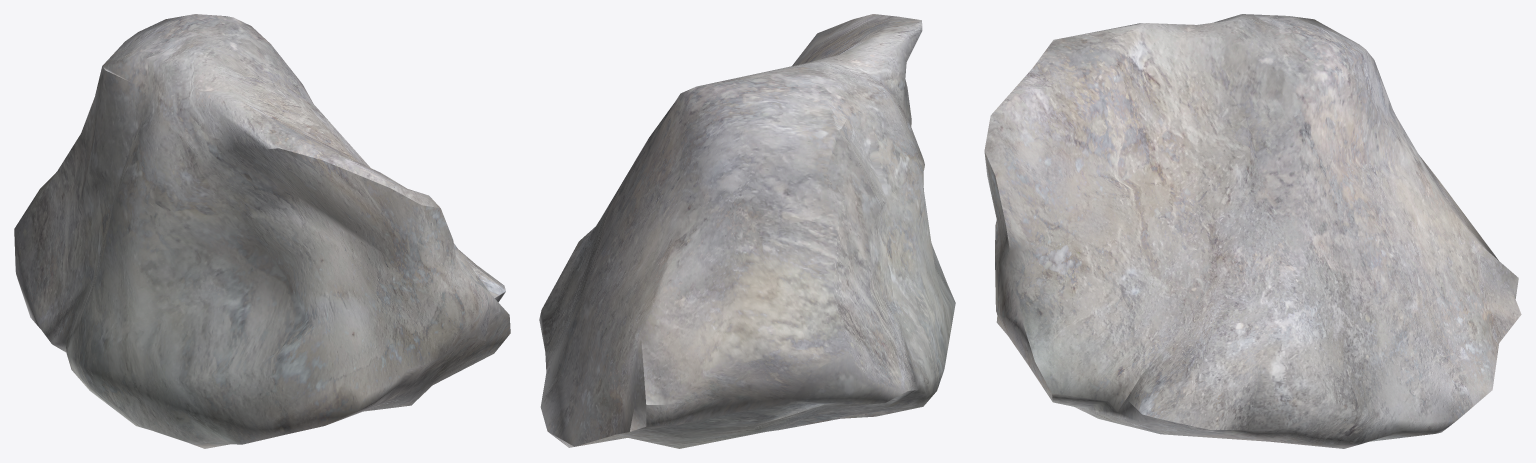
Rendered from rock_00D_lp_2k.fbx.
3 views of the same model, side by side, from view 1: azimuth 30°, elevation 25°; view 2: azimuth 150°, elevation 25°; view 3: azimuth 270°, elevation 25° (orthographic).
Visible parts, largest first — view 1: rock_00D_lp_2k; view 2: rock_00D_lp_2k; view 3: rock_00D_lp_2k.
Part boxes in pixels (left/top/right/bottom): rock_00D_lp_2k: left=14, top=14, right=510, bottom=448; rock_00D_lp_2k: left=539, top=14, right=955, bottom=448; rock_00D_lp_2k: left=984, top=14, right=1521, bottom=448.
Bounding box in the file's own units: 157 × 141 × 188.
